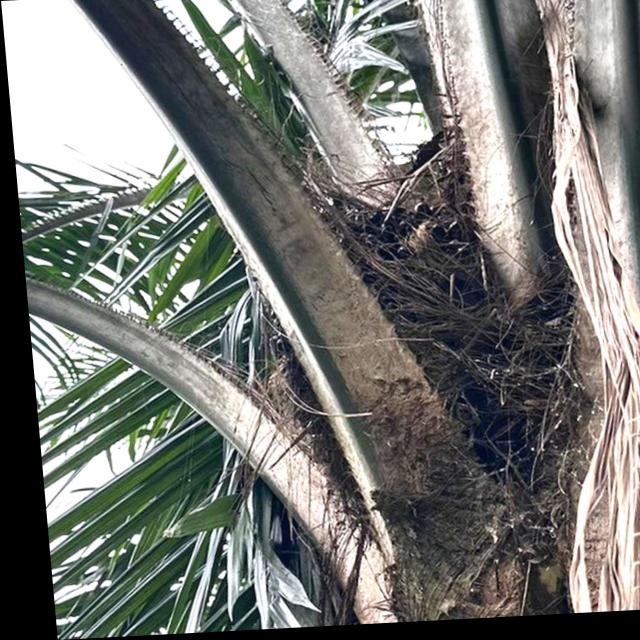unripe: (243, 168, 504, 448)
